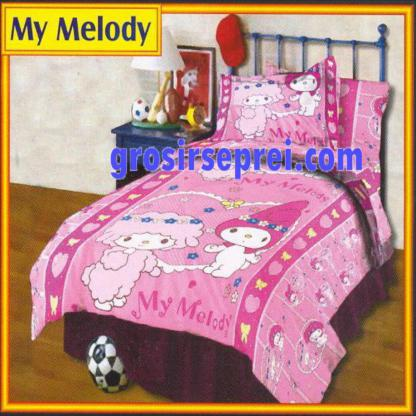Ball: (87, 334, 129, 394), (131, 94, 150, 122)
